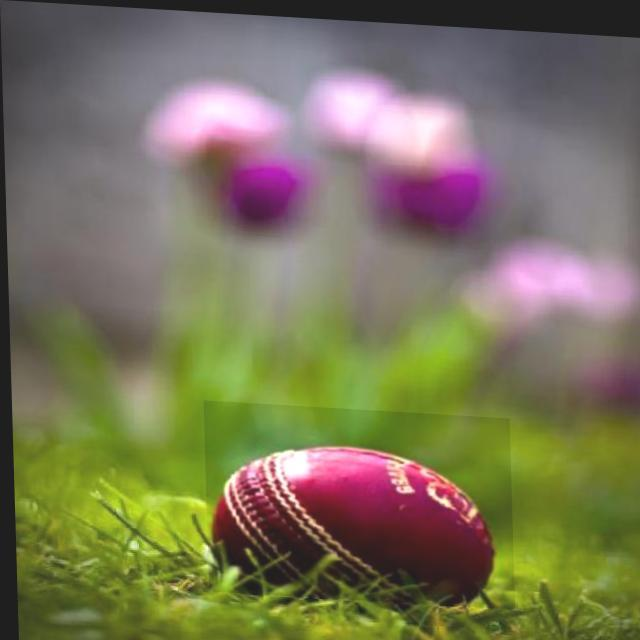-: (202, 398, 512, 603)
